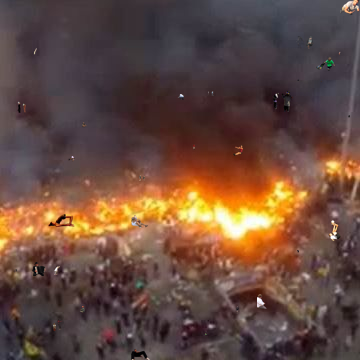Human: (316, 51, 341, 71), (272, 91, 293, 112), (340, 0, 360, 18), (48, 214, 75, 227), (328, 220, 341, 241), (296, 36, 314, 50), (131, 215, 149, 228), (131, 349, 151, 360), (32, 262, 46, 276), (14, 100, 27, 113), (257, 294, 267, 309), (57, 319, 68, 330), (233, 145, 243, 156), (28, 48, 37, 57), (54, 266, 60, 275), (67, 156, 75, 162), (80, 306, 85, 315), (177, 94, 184, 100), (139, 175, 145, 181), (208, 91, 214, 96), (82, 122, 87, 128), (53, 323, 56, 331), (236, 306, 239, 314), (14, 269, 17, 273), (193, 144, 195, 150), (297, 78, 300, 81), (205, 331, 207, 335), (348, 115, 350, 118), (297, 250, 299, 253), (320, 81, 322, 83)
